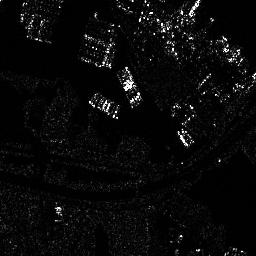ship: (176, 128, 195, 148)
